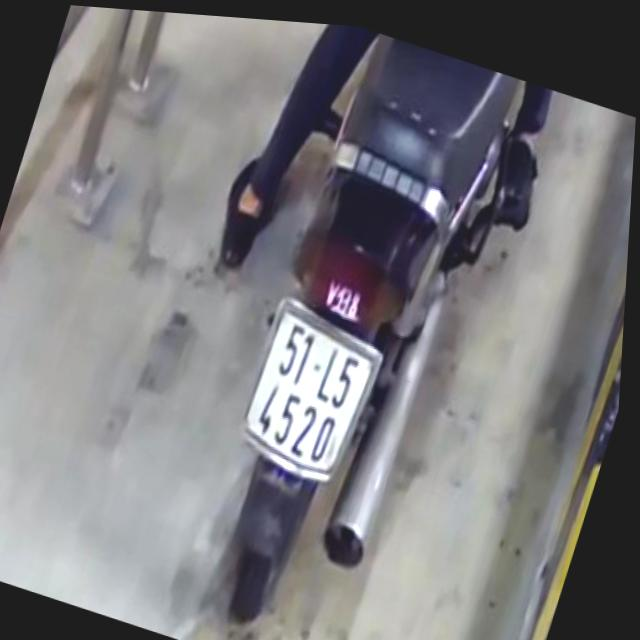motorcycle: (177, 17, 529, 640)
plate: (225, 289, 386, 492)
